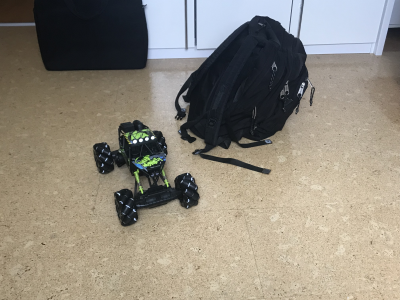remote control car: (89, 117, 201, 227)
